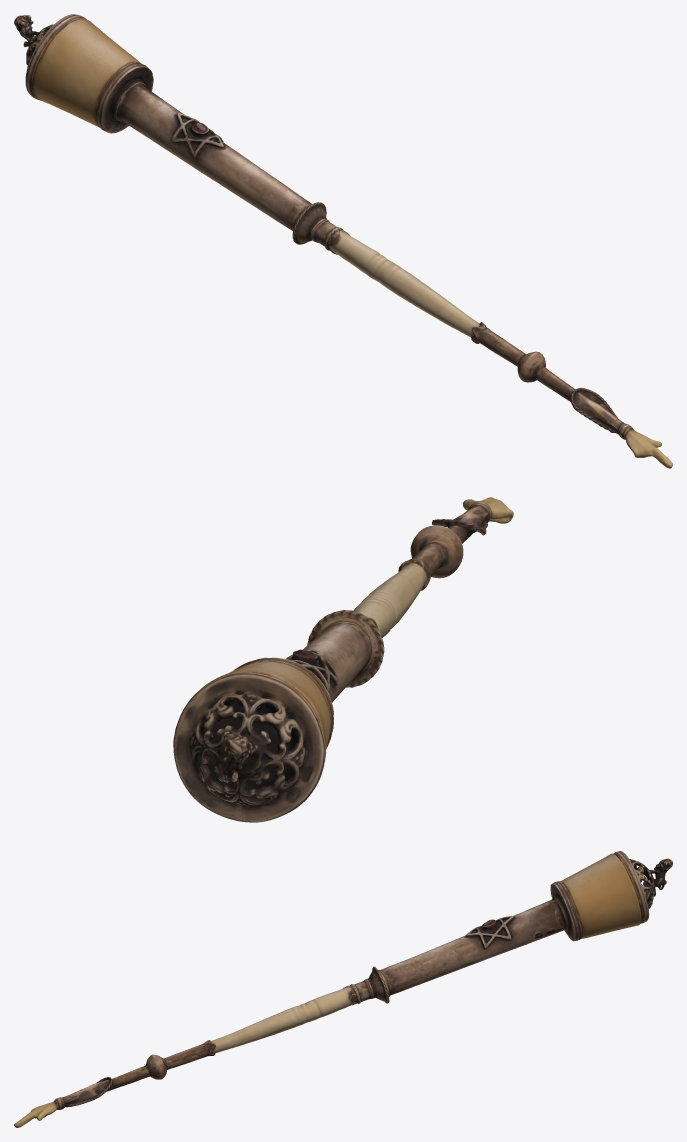
The model's file is preview.glb.
3 renders of one model, top to bottom at view 1: azimuth 30°, elevation 25°; view 2: azimuth 150°, elevation 25°; view 3: azimuth 270°, elevation 25°, orthographic. The views are drawn at different scales.
Parts seen in each view (by area): view 1: Object_2; view 2: Object_2; view 3: Object_2.
Boxes of the visible parts, x1,y1,x2,y2 form: Object_2: (14, 14, 672, 468); Object_2: (173, 497, 513, 822); Object_2: (14, 851, 672, 1127).
Size of the model in its own units: 13.53 by 10.83 by 35.03.
Materials: 1 (1 with a texture image).
